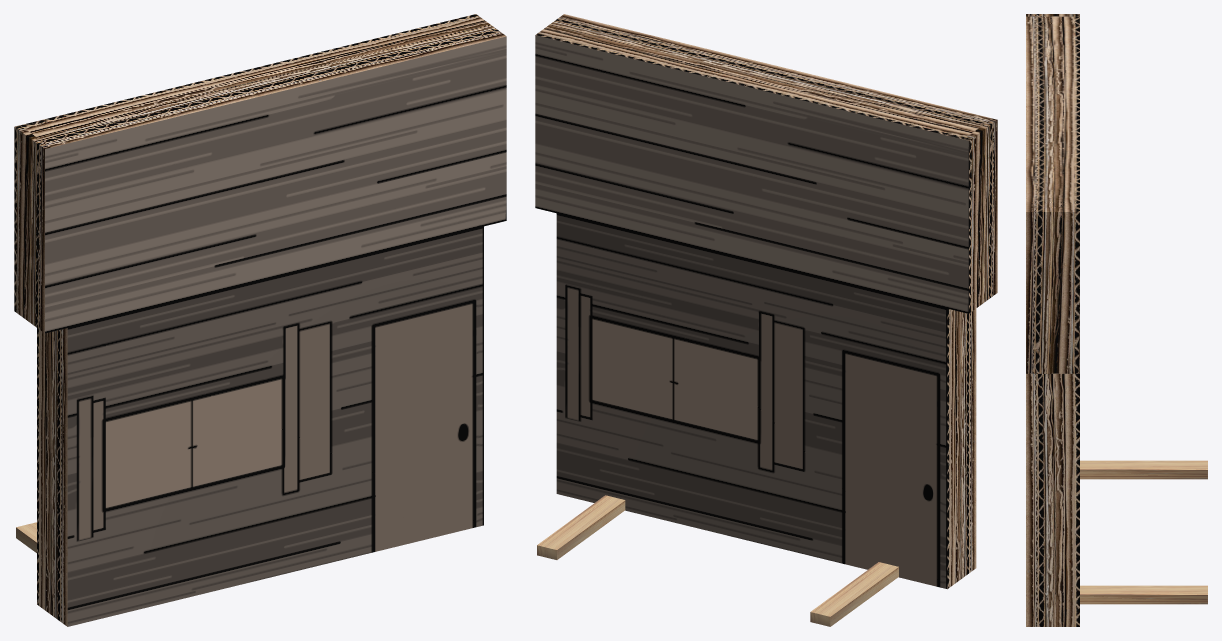
Rendered from Hardback_1_Model.fbx.
The picture shows the model from 3 angles, left to right: view 1: azimuth 30°, elevation 25°; view 2: azimuth 150°, elevation 25°; view 3: azimuth 270°, elevation 25°; orthographic projection. The views are drawn at different scales.
Parts seen in each view (by area): view 1: polySurface6, polySurface5; view 2: polySurface6, polySurface5, pCube18, pCube19; view 3: polySurface5, pCube19, pCube18.
Boxes of the visible parts, bbox=[...] form: polySurface6: bbox=[45, 36, 506, 626]; polySurface5: bbox=[14, 14, 506, 626]; polySurface6: bbox=[535, 35, 968, 588]; polySurface5: bbox=[536, 14, 997, 588]; pCube18: bbox=[810, 562, 898, 626]; pCube19: bbox=[537, 495, 625, 559]; polySurface5: bbox=[1026, 14, 1079, 626]; pCube19: bbox=[1080, 585, 1207, 604]; pCube18: bbox=[1080, 460, 1207, 479].
Size of the model in its own units: 2.39 by 2.39 by 0.9279.
Materials: 3 (3 with a texture image).
